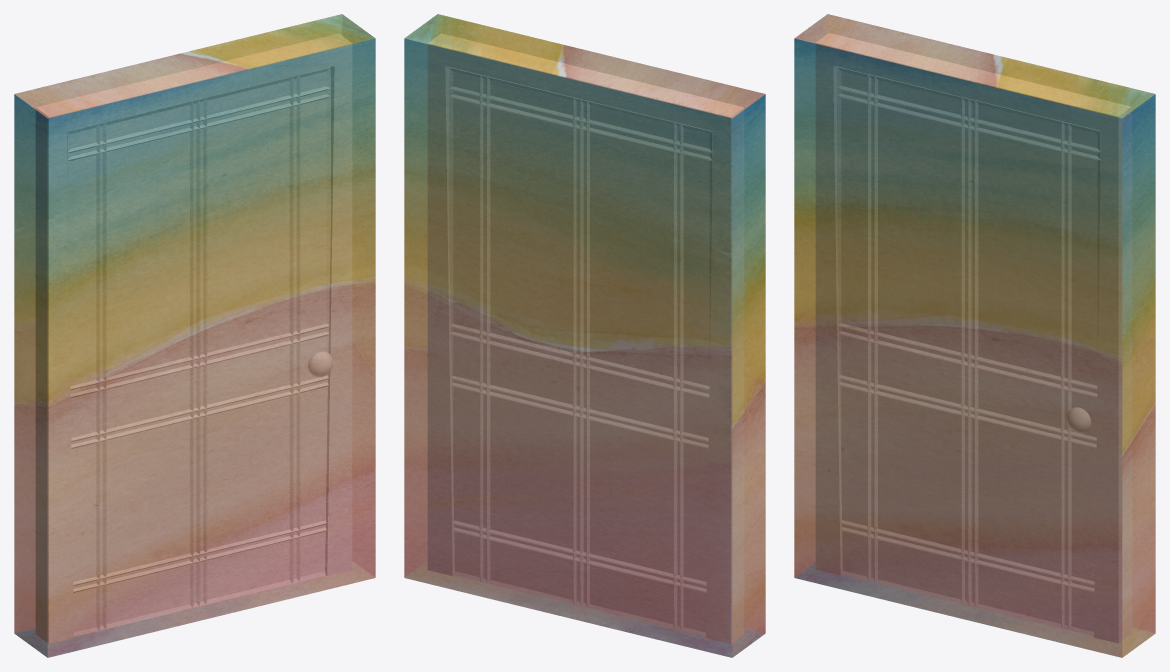
File: door_rainbow.fbx
3 views of the same model, side by side, from view 1: azimuth 30°, elevation 25°; view 2: azimuth 150°, elevation 25°; view 3: azimuth 330°, elevation 25° (orthographic).
Visible parts, largest first — view 1: Cube.199, Cube.196, Cube.195, Cube.198; view 2: Cube.199, Cube.196, Cube.195, Cube.198; view 3: Cube.199, Cube.196, Cube.195, Cube.198.
Boxes of the visible parts, left/top/right/bottom form: Cube.199: left=14, top=14, right=375, bottom=657; Cube.196: left=70, top=72, right=326, bottom=631; Cube.195: left=36, top=33, right=351, bottom=643; Cube.198: left=67, top=67, right=330, bottom=636; Cube.199: left=404, top=14, right=765, bottom=657; Cube.196: left=453, top=72, right=709, bottom=631; Cube.195: left=428, top=33, right=743, bottom=643; Cube.198: left=449, top=67, right=712, bottom=636; Cube.199: left=794, top=14, right=1155, bottom=657; Cube.196: left=841, top=71, right=1097, bottom=631; Cube.195: left=816, top=33, right=1131, bottom=643; Cube.198: left=837, top=67, right=1100, bottom=635.
Bounding box in the file's own units: 158 × 248 × 27.83.
